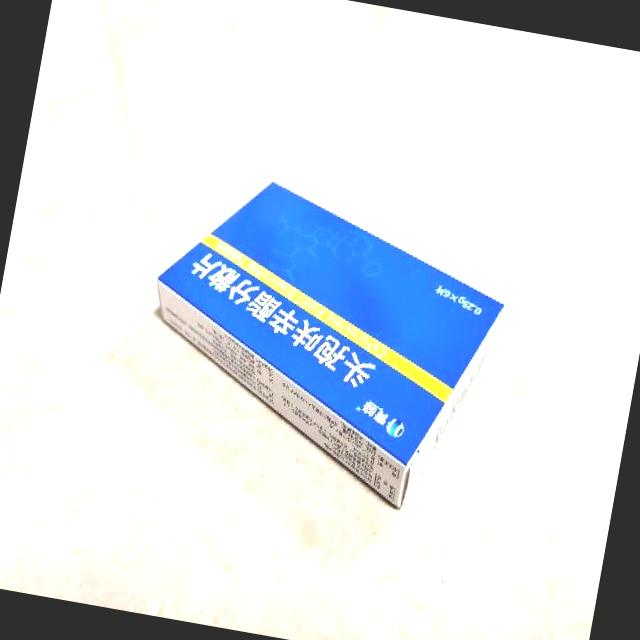box: (124, 159, 524, 520)
